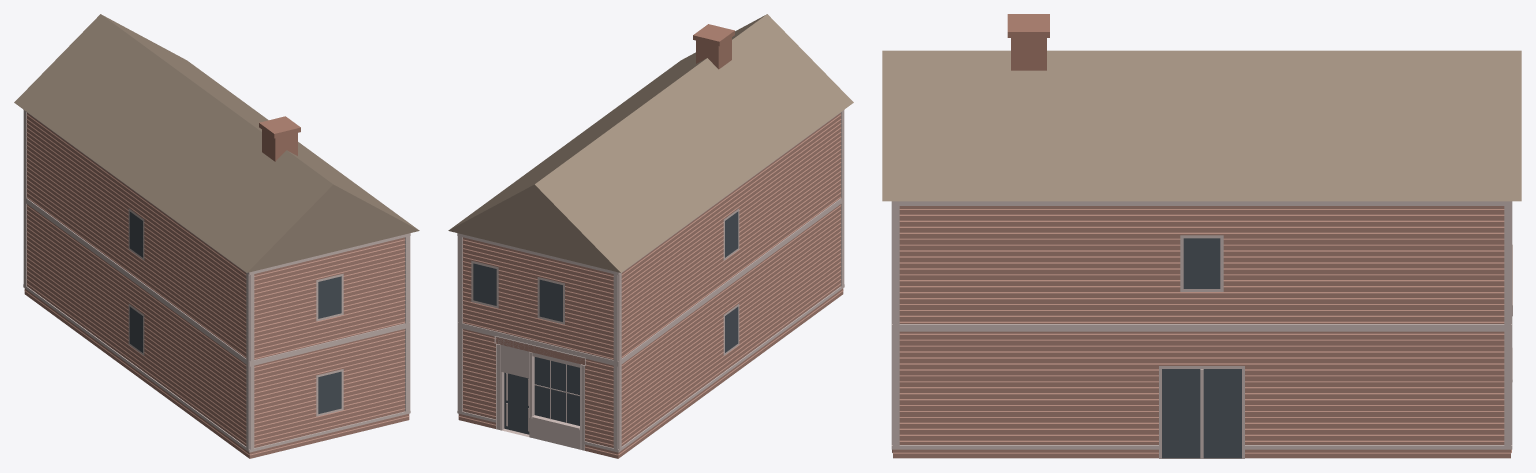
Rendered from recon_1835_south_c3_040__inferred_1835.glb.
The picture shows the model from 3 angles, left to right: view 1: azimuth 30°, elevation 25°; view 2: azimuth 150°, elevation 25°; view 3: azimuth 270°, elevation 25°; orthographic projection. The views are drawn at different scales.
Parts seen in each view (by area): view 1: recon_1835_south_c3_040__inferred_1835; view 2: recon_1835_south_c3_040__inferred_1835; view 3: recon_1835_south_c3_040__inferred_1835.
Boxes of the visible parts, x1,y1,x2,y2 form: recon_1835_south_c3_040__inferred_1835: [14, 14, 419, 458]; recon_1835_south_c3_040__inferred_1835: [448, 14, 853, 458]; recon_1835_south_c3_040__inferred_1835: [882, 14, 1521, 458].
Size of the model in its own units: 6.36 by 9.77 by 14.83.
